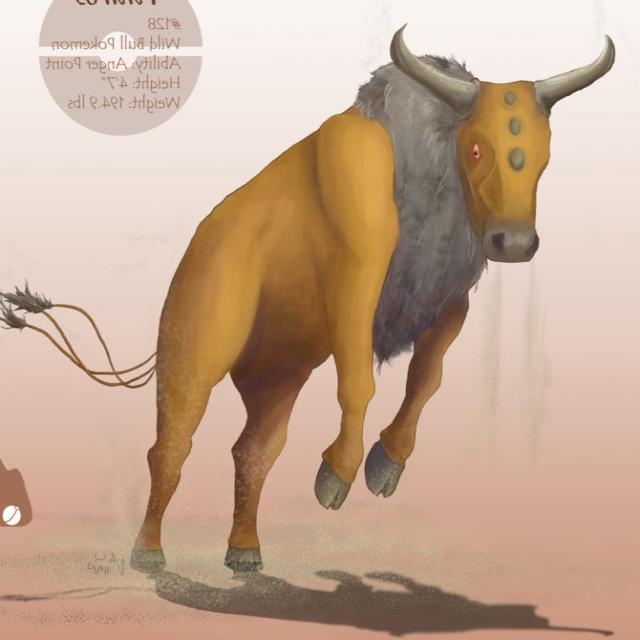Tauros: (122, 34, 598, 529)
